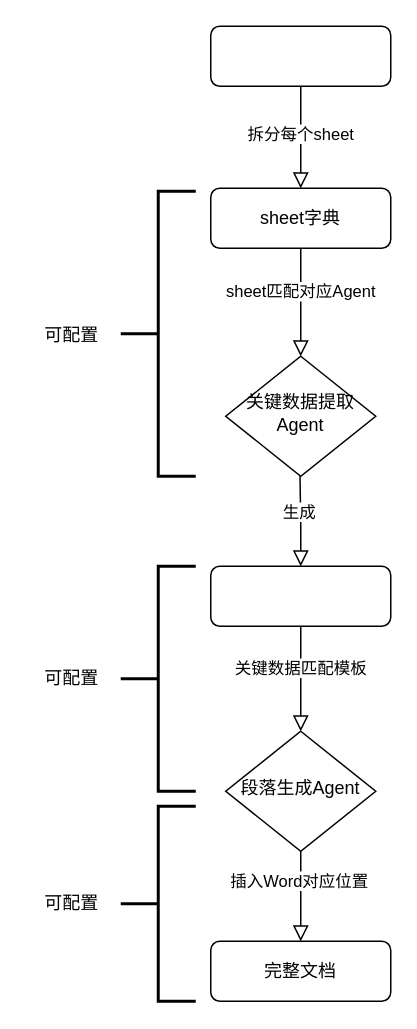
Some shapes in this 417 by 1029 pixel diagram are drawn without their labels. Here are the shapes that lost their labels. From the top down, the box of each, then its label:
(209, 25, 391, 86): 多sheet表格
(209, 565, 391, 626): 关键数据表
